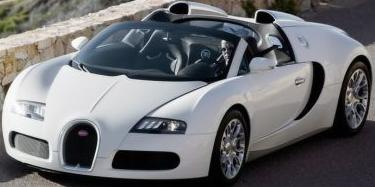front_view: (3, 80, 210, 181)
headlight: (127, 109, 190, 139)
